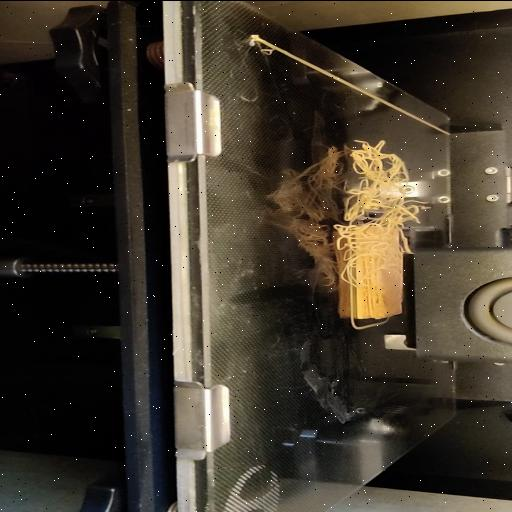spaghetti: (328, 138, 430, 250), (335, 250, 406, 282)
